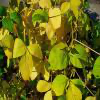Soyabean leaf: (47, 43, 69, 73), (18, 52, 34, 82), (70, 44, 89, 68), (51, 74, 69, 97), (10, 37, 27, 60), (26, 42, 44, 63), (69, 76, 86, 96), (92, 55, 100, 87), (1, 16, 14, 33), (10, 11, 24, 25)
